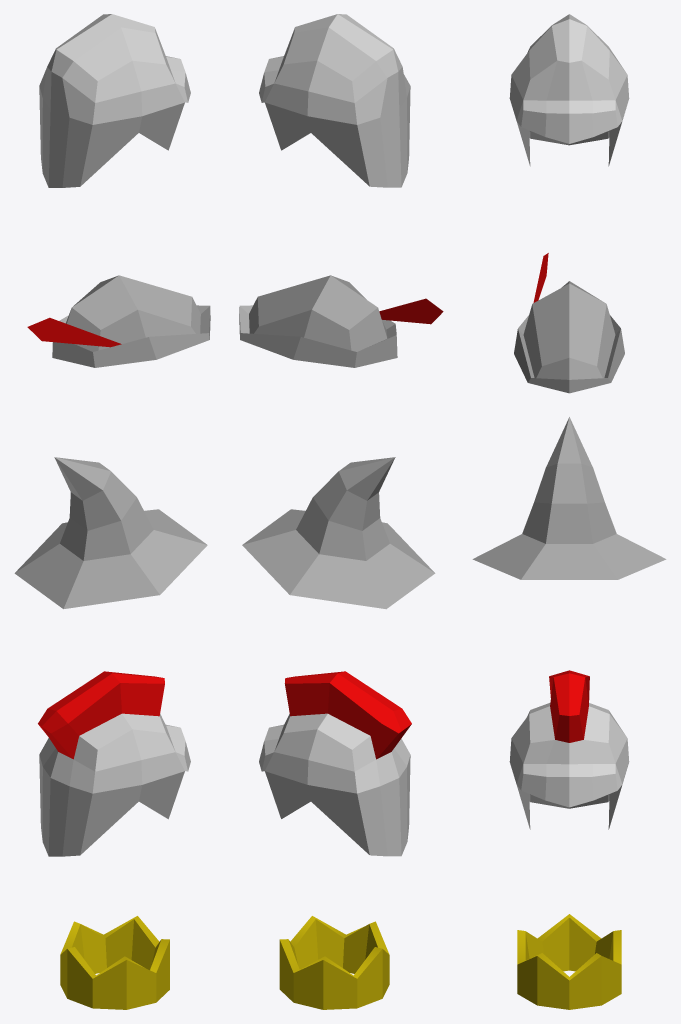
File: LP_DwarfHats.fbx
3 views of the same model, side by side, from view 1: azimuth 30°, elevation 25°; view 2: azimuth 150°, elevation 25°; view 3: azimuth 270°, elevation 25° (orthographic).
Parts seen in each view (by area): view 1: pCube28, pCube25, pasted__pCone4, pCube20, pPipe3; view 2: pCube28, pCube25, pasted__pCone4, pCube20, pPipe3; view 3: pasted__pCone4, pCube28, pCube25, pCube20, pPipe3.
Part boxes in pixels (x1,y1,x2,y2): pCube28: [38, 671, 190, 856]; pCube25: [39, 14, 190, 187]; pasted__pCone4: [14, 457, 207, 609]; pCube20: [27, 275, 210, 367]; pPipe3: [60, 916, 169, 1009]; pCube28: [259, 671, 411, 856]; pCube25: [259, 14, 410, 187]; pasted__pCone4: [242, 457, 435, 609]; pCube20: [239, 275, 443, 367]; pPipe3: [279, 916, 389, 1009]; pasted__pCone4: [472, 417, 666, 579]; pCube28: [509, 670, 629, 829]; pCube25: [509, 14, 629, 166]; pCube20: [514, 253, 624, 393]; pPipe3: [517, 914, 621, 1009].
Bounding box in the file's own units: 0.9017 × 4.33 × 0.7897.
